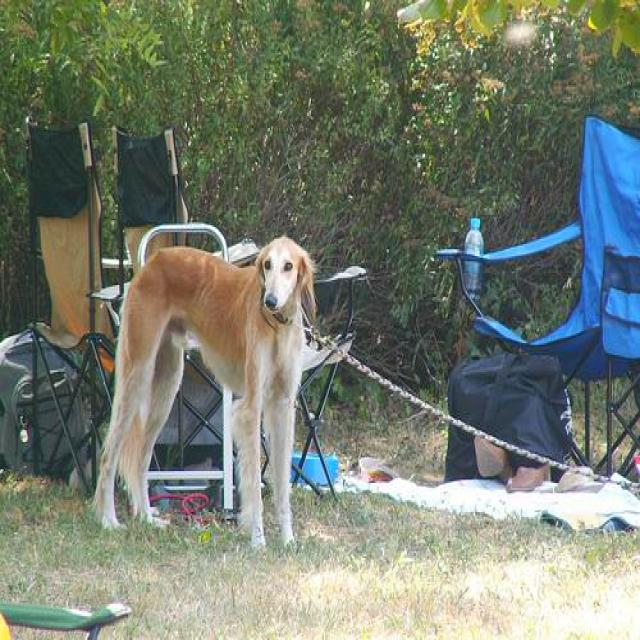saluki: (92, 232, 318, 553)
